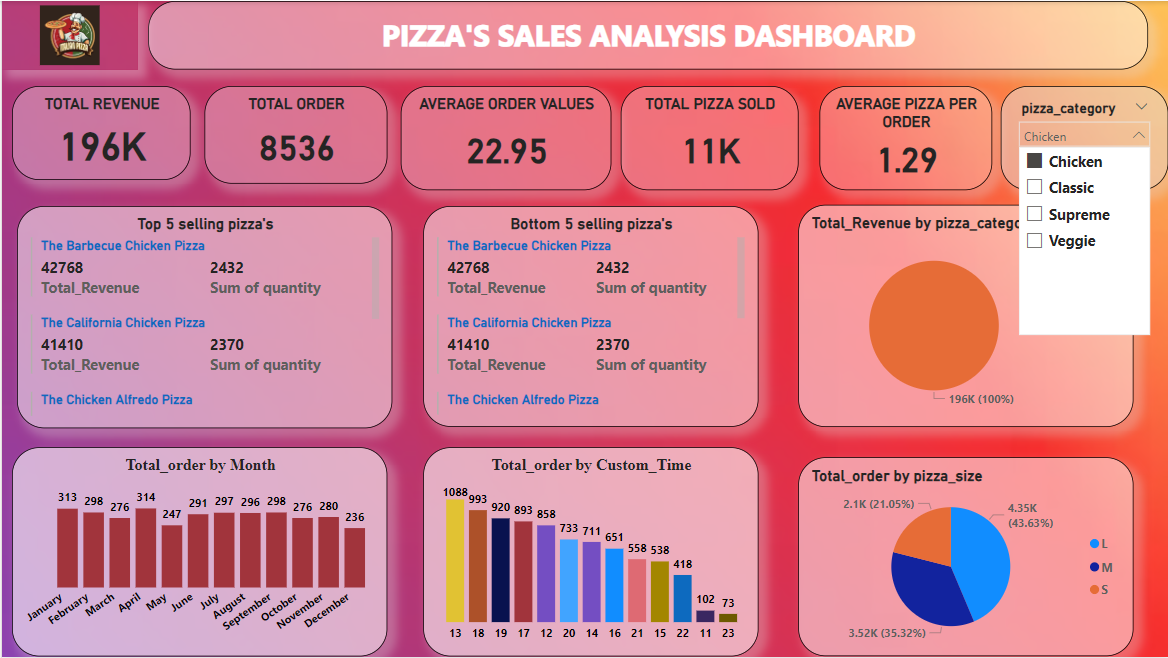

The dashboard page shown, as its layout file describes it:
{"tool":"powerbi","page":{"name":"Page 2","canvas":[1280,720],"ordinal":0},"visuals":[{"type":"card","title":"TOTAL REVENUE","fields":{"Values":["pizza_sales (2).Total_Revenue"]},"box":[11.1,93.3,196.3,103],"z":0},{"type":"card","title":"TOTAL ORDER","fields":{"Values":["pizza_sales (2).Total_order"]},"box":[222.8,93.3,200.5,107.2],"z":1000},{"type":"card","title":"AVERAGE ORDER VALUES","fields":{"Values":["pizza_sales (2).Average_order_values"]},"box":[437.2,93.3,231.2,114.2],"z":2000},{"type":"card","title":"TOTAL PIZZA SOLD","fields":{"Values":["pizza_sales (2).Total_pizza_sold"]},"box":[679.5,93.3,195,114.2],"z":3000},{"type":"card","title":"AVERAGE PIZZA PER ORDER","fields":{"Values":["pizza_sales (2).Average_pizzas_per_order"]},"box":[896.8,93.3,189.4,114.2],"z":4000},{"type":"textbox","box":[160.1,0,1097.3,75.2],"z":5000},{"type":"image","box":[0,0,149,75.2],"z":6000},{"type":"slicer","fields":{"Values":["pizza_sales (2).pizza_category"]},"box":[1095.9,93.3,183.8,114.2],"z":7000},{"type":"columnChart","fields":{"Category":["pizza_sales (2).order_date.Variation.Date Hierarchy.Month"],"Y":["pizza_sales (2).Total_order"]},"box":[11.1,490.2,412.2,229.8],"z":8000},{"type":"pieChart","fields":{"Category":["pizza_sales (2).pizza_category"],"Y":["pizza_sales (2).Total_Revenue"]},"box":[874.5,224.2,367.6,243.7],"z":9000},{"type":"multiRowCard","title":"Bottom 5 selling pizza''s","fields":{"Values":["pizza_sales (2).pizza_name","pizza_sales (2).Total_Revenue","Sum(pizza_sales (2).quantity)"]},"box":[462.3,225.6,367.6,242.3],"z":10000},{"type":"multiRowCard","title":"Top 5 selling pizza''s","fields":{"Values":["pizza_sales (2).pizza_name","pizza_sales (2).Total_Revenue","Sum(pizza_sales (2).quantity)"]},"box":[16.7,225.6,412.2,243.7],"z":11000},{"type":"pieChart","fields":{"Category":["pizza_sales (2).pizza_size"],"Y":["pizza_sales (2).Total_order"]},"box":[874.5,501.3,367.6,218.6],"z":12000},{"type":"columnChart","fields":{"Category":["pizza_sales (2).Custom_Time"],"Y":["pizza_sales (2).Total_order"]},"box":[462.3,490.2,367.6,229.8],"z":13000}]}

Visuals, with their boxes in screenshot pixels (x1, y1, x2, y2), scaled from the page's 1280x720 canvas onto the 1168x658 screenshot:
"TOTAL REVENUE" card: box(10, 85, 189, 179)
"TOTAL ORDER" card: box(203, 85, 386, 183)
"AVERAGE ORDER VALUES" card: box(399, 85, 610, 190)
"TOTAL PIZZA SOLD" card: box(620, 85, 798, 190)
"AVERAGE PIZZA PER ORDER" card: box(818, 85, 991, 190)
textbox: box(146, 0, 1147, 69)
image: box(0, 0, 136, 69)
slicer - pizza_sales (2).pizza_category: box(1000, 85, 1167, 190)
columnChart - pizza_sales (2).order_date.Variation.Date Hierarchy.Month x pizza_sales (2).Total_order: box(10, 448, 386, 657)
pieChart - pizza_sales (2).pizza_category x pizza_sales (2).Total_Revenue: box(798, 205, 1133, 428)
"Bottom 5 selling pizza''s" multiRowCard: box(422, 206, 757, 428)
"Top 5 selling pizza''s" multiRowCard: box(15, 206, 391, 429)
pieChart - pizza_sales (2).pizza_size x pizza_sales (2).Total_order: box(798, 458, 1133, 657)
columnChart - pizza_sales (2).Custom_Time x pizza_sales (2).Total_order: box(422, 448, 757, 657)
